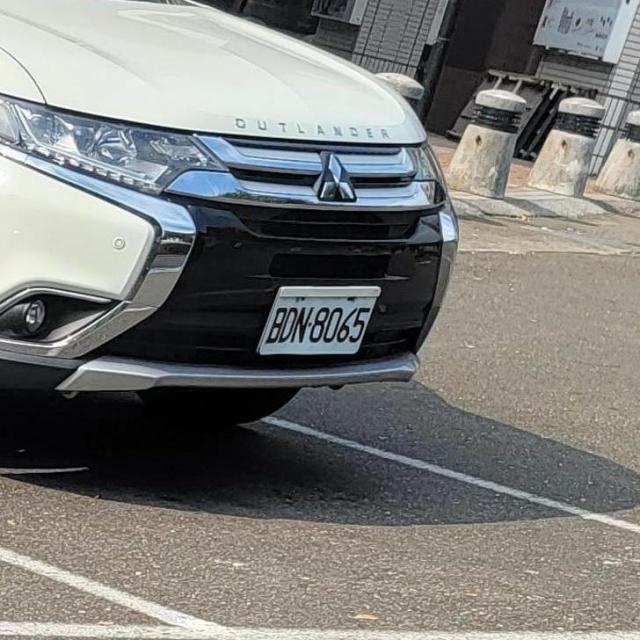W: (247, 266, 387, 378)
